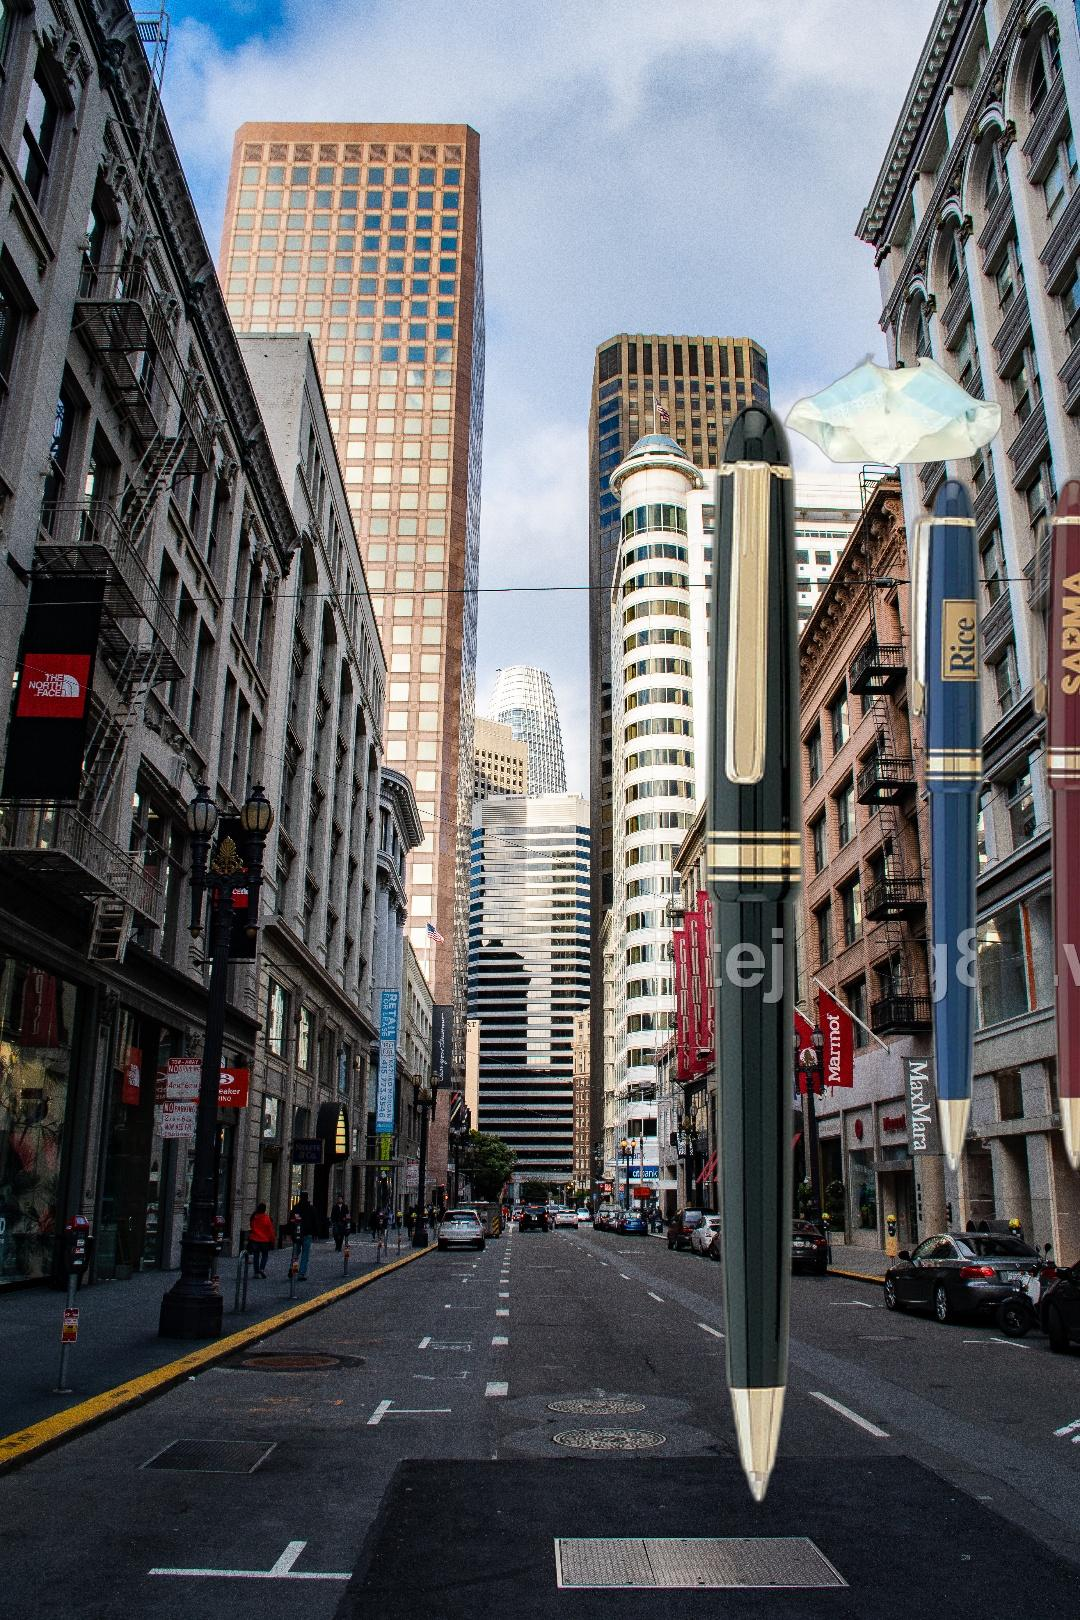penholder: (697, 394, 1080, 1514)
trash: (782, 351, 1005, 472)
